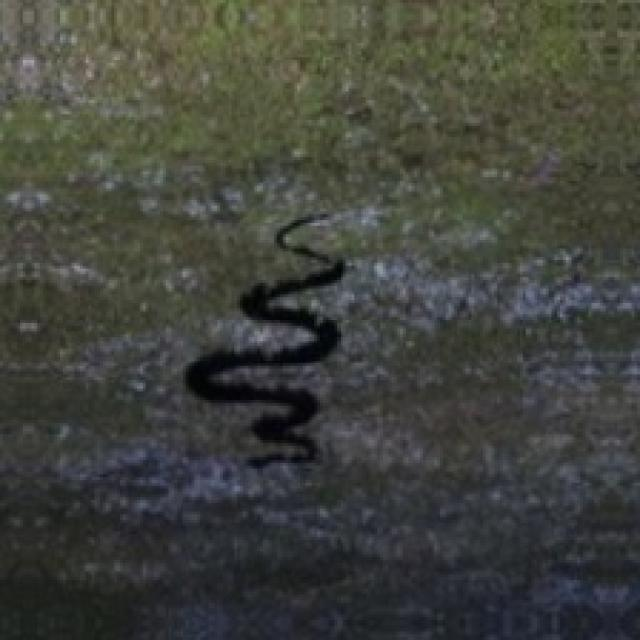king cobra: (186, 214, 343, 463)
